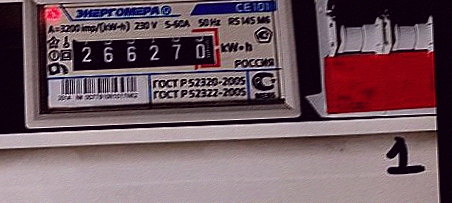0: (194, 43, 206, 60)
2: (79, 45, 92, 64), (148, 44, 159, 62)
6: (102, 45, 114, 64), (125, 45, 137, 64)
7: (171, 43, 182, 61)
screen: (61, 25, 226, 81)
